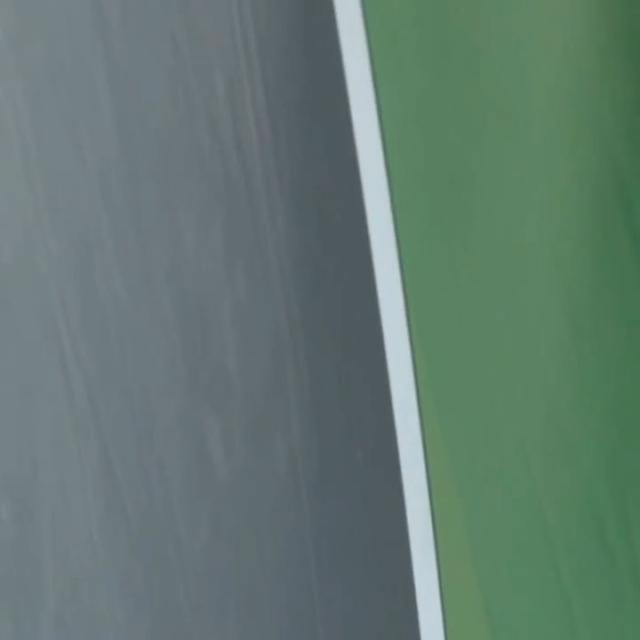right: (333, 0, 444, 639)
